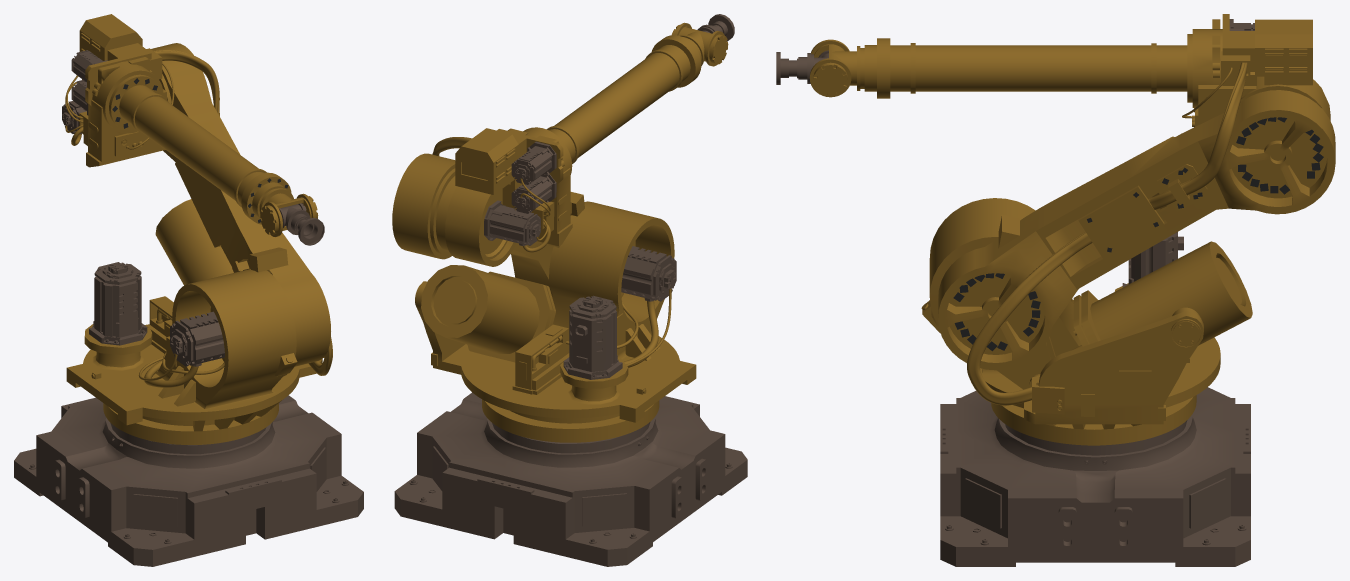
The model's file is robot_base_v2.glb.
The picture shows the model from 3 angles, left to right: view 1: azimuth 30°, elevation 25°; view 2: azimuth 150°, elevation 25°; view 3: azimuth 270°, elevation 25°; orthographic projection. The views are drawn at different scales.
Visible parts, largest first — view 1: Robot_Body, engine2_low_Engine_0, engine_low_Engine_0_NEW_12_14, engine3_low_Engine_0_NEW_12_32, engine5_low_Engine_0_NEW_12_30; view 2: Robot_Body, engine2_low_Engine_0, engine_low_Engine_0_NEW_12_14, engine5_low_Engine_0_NEW_12_30, engine3_low_Engine_0_NEW_12_32, engine4_low_Engine_0_NEW_12_31; view 3: Robot_Body, screw6_low_arm_0_BAKED_4, engine2_low_Engine_0.
Boxes of the visible parts, x1,y1,x2,y2 form: Robot_Body: [14, 14, 363, 566]; engine2_low_Engine_0: [89, 262, 147, 345]; engine_low_Engine_0_NEW_12_14: [170, 311, 224, 366]; engine3_low_Engine_0_NEW_12_32: [71, 50, 107, 82]; engine5_low_Engine_0_NEW_12_30: [62, 101, 86, 134]; Robot_Body: [392, 14, 747, 566]; engine2_low_Engine_0: [563, 295, 622, 379]; engine_low_Engine_0_NEW_12_14: [621, 246, 676, 301]; engine5_low_Engine_0_NEW_12_30: [484, 200, 540, 245]; engine3_low_Engine_0_NEW_12_32: [511, 141, 556, 184]; engine4_low_Engine_0_NEW_12_31: [511, 173, 556, 213]; Robot_Body: [776, 14, 1335, 566]; screw6_low_arm_0_BAKED_4: [953, 117, 1323, 351]; engine2_low_Engine_0: [1122, 232, 1183, 287].
Size of the model in its own units: 0.9197 by 1.5 by 1.6.
3 materials, 3 textured.
